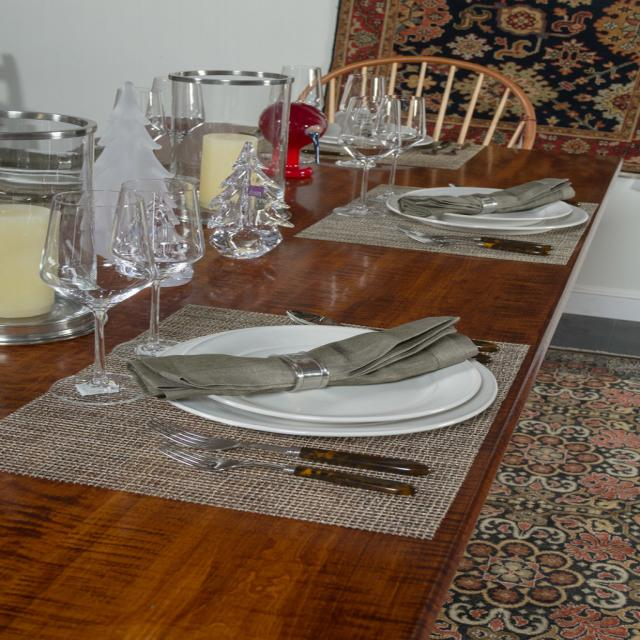non-organic waste: (134, 308, 504, 450)
